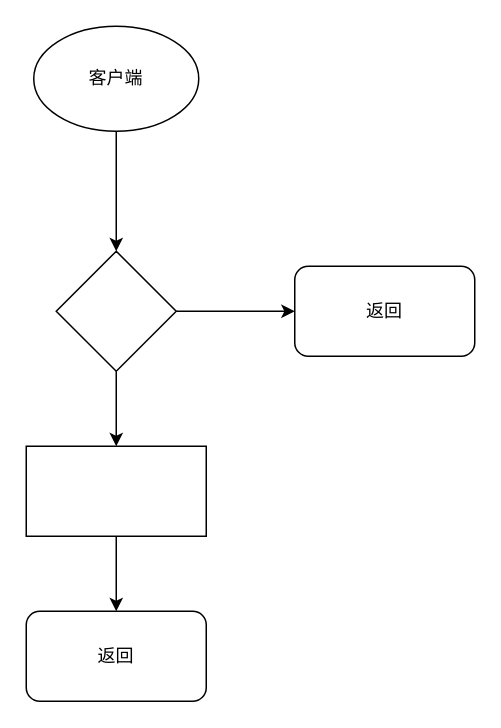
Some shapes in this 501 by 728 pixel diagram are drawn without their labels. The centre of each missing label's shape, as x and y in pixels:
"处理逻辑" goes at (115,490).
"是否登录" goes at (115,310).
